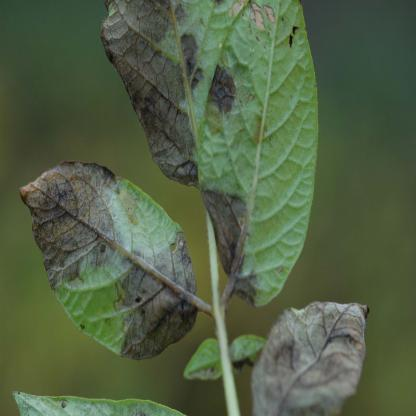Potato leaf late blight: (99, 1, 318, 326), (20, 159, 200, 363), (246, 298, 371, 416)
